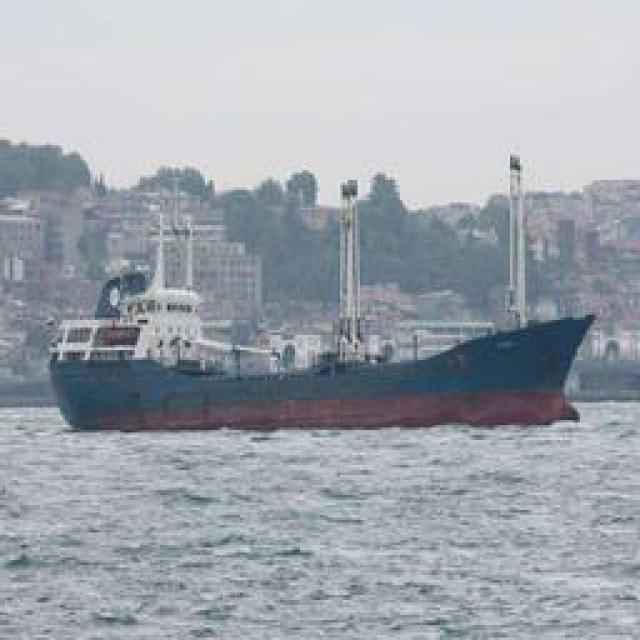Ship: (39, 274, 602, 437)
